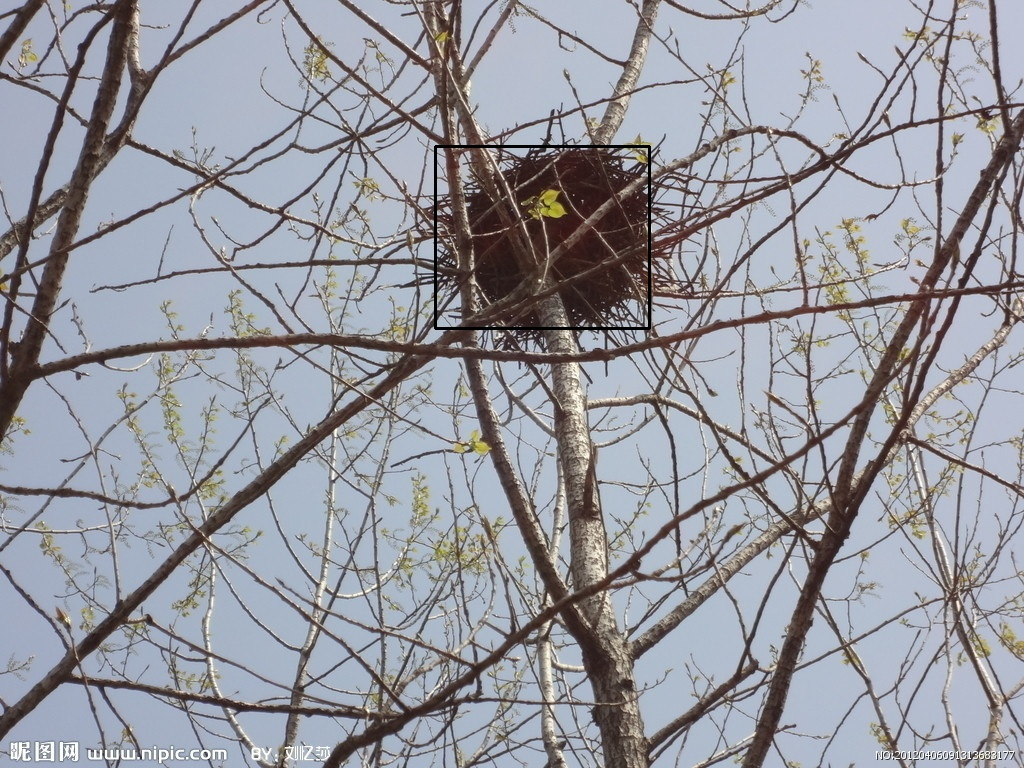bird-nest: (435, 146, 649, 328)
